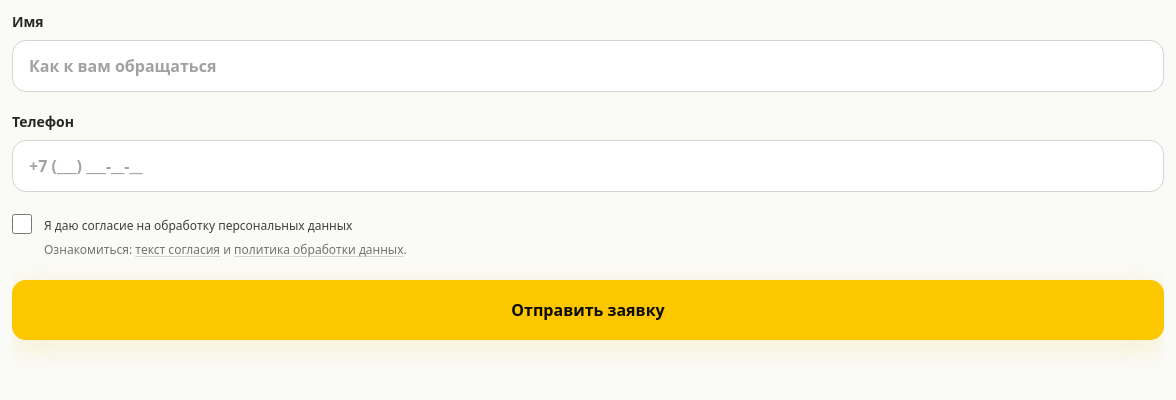
EnrollmentForm › requires explicit personal-data consent before submission
The width and height of the screenshot is (1176, 400).
In the field labelled "Имя": (588, 66) top-left (12, 40), bottom-right (1164, 92), type "Илья"
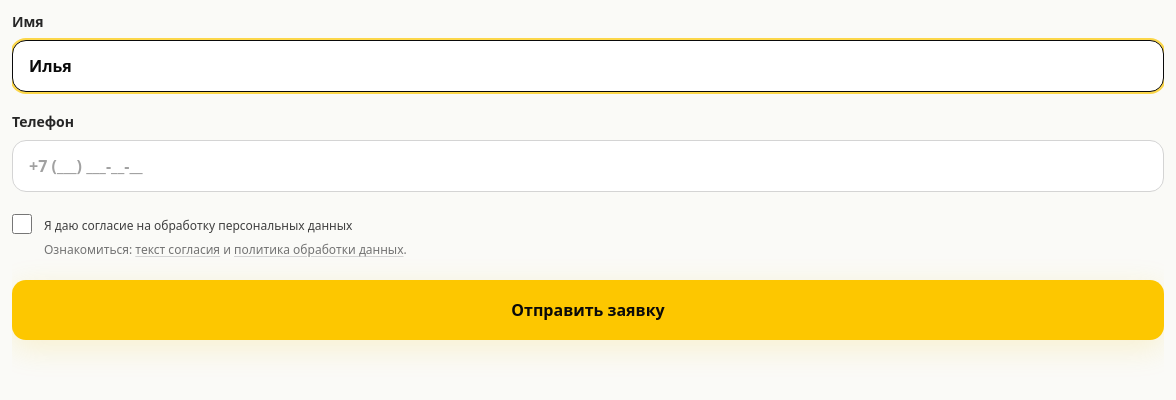
In the field labelled "Телефон": (588, 166) top-left (12, 140), bottom-right (1164, 192), type "+7 (999) 123-45-67"
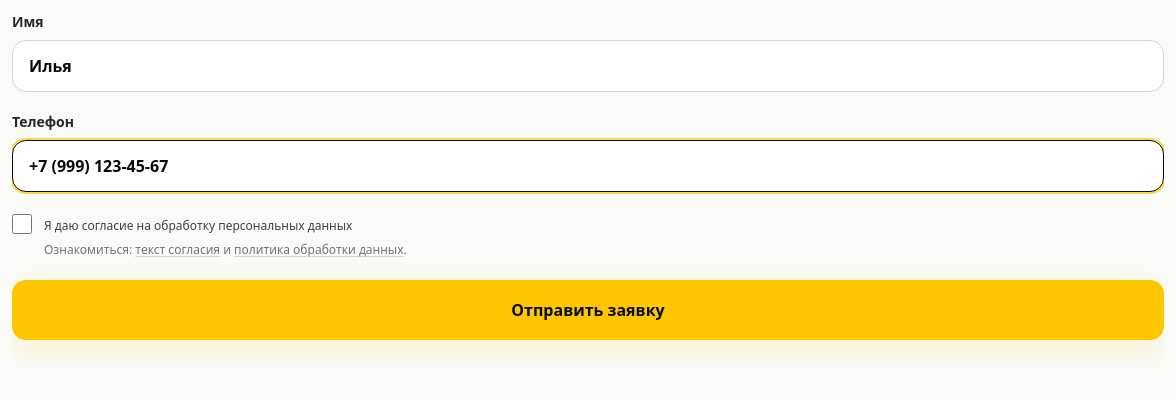
Click the button "Отправить заявку": (588, 310) top-left (12, 280), bottom-right (1164, 340)
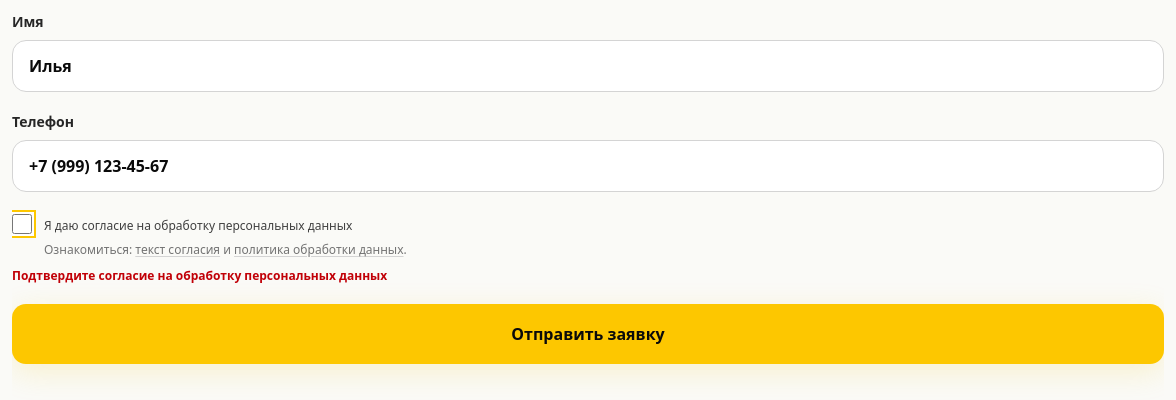
Now the message reads "Подтвердите согласие на обработку персональных данных", box top-left (12, 267), bottom-right (387, 284)
